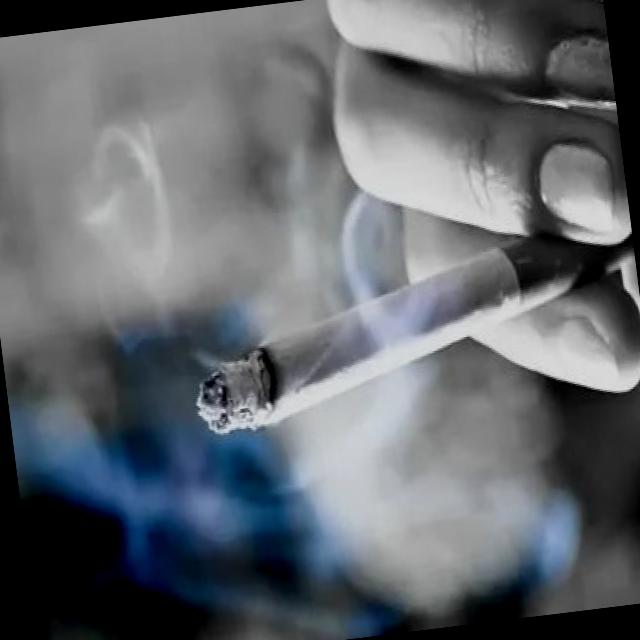smoke: (173, 207, 640, 436)
